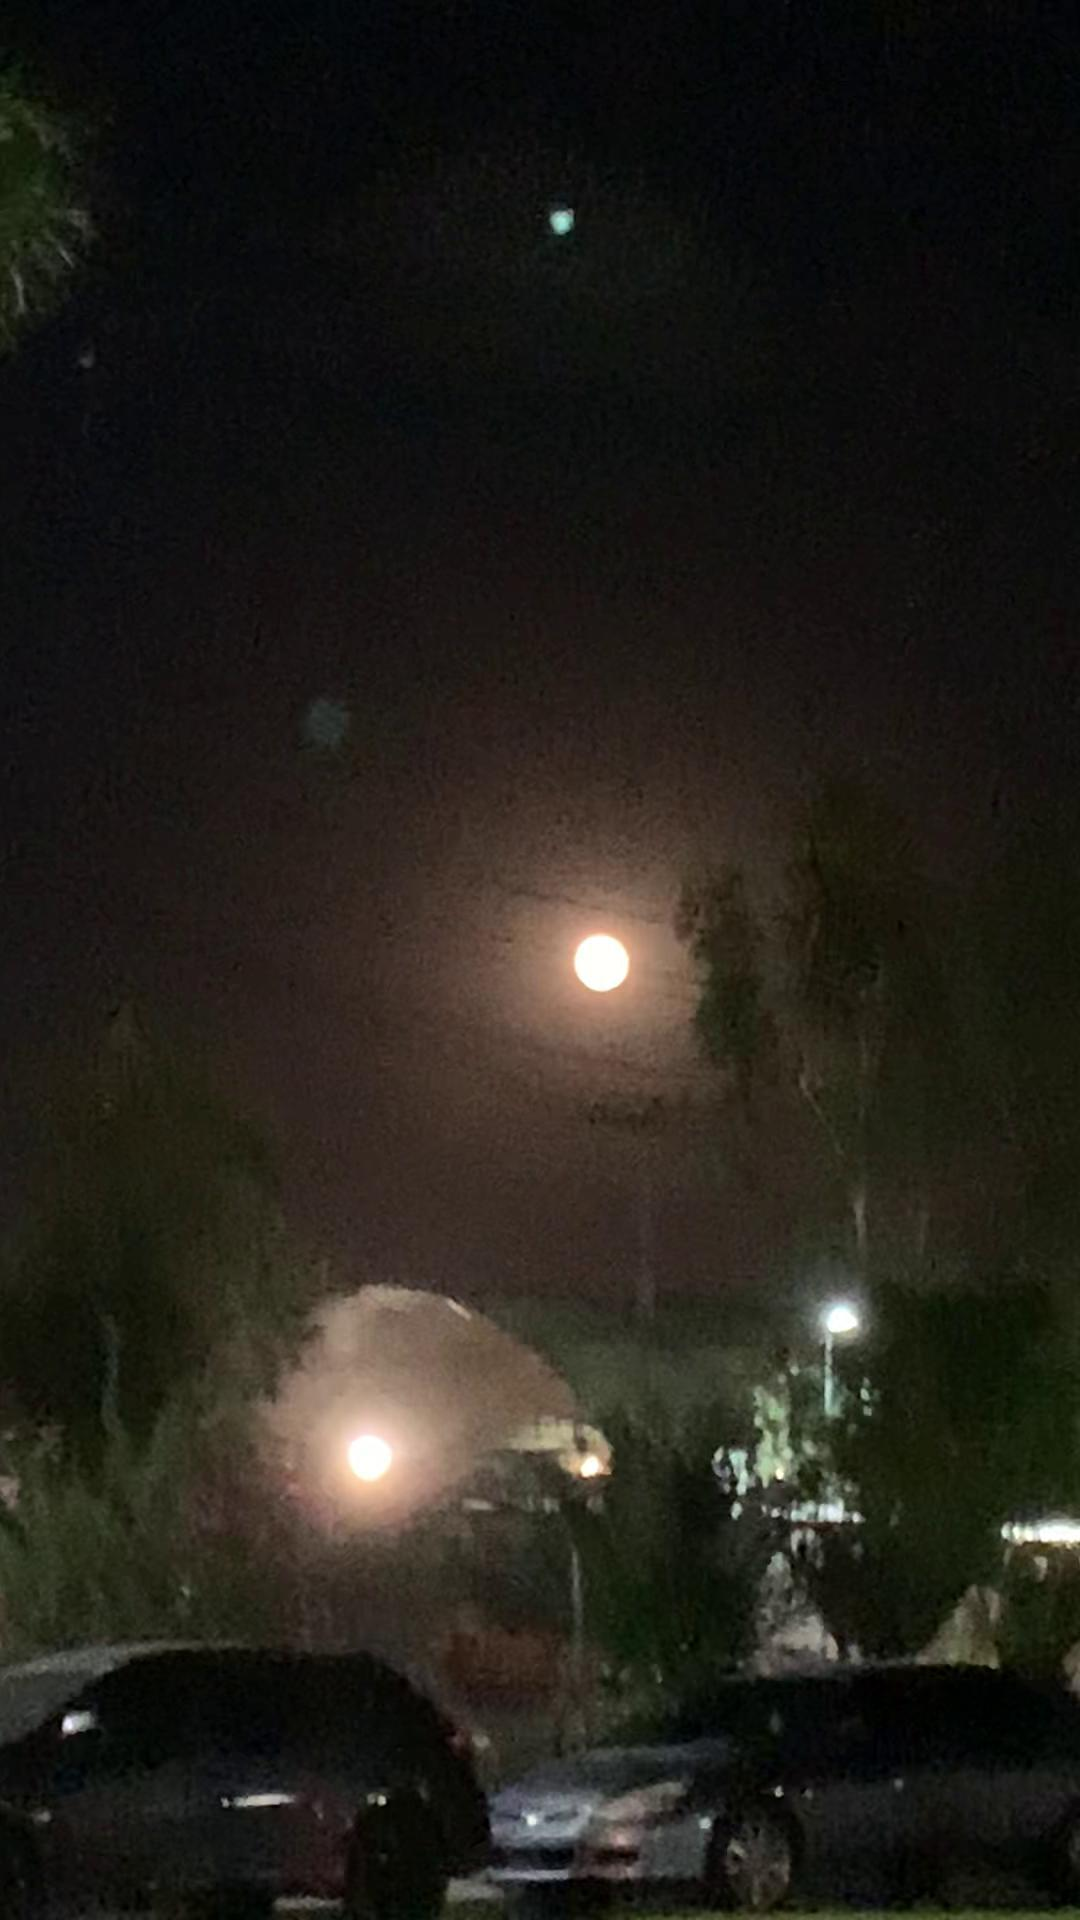moon: (574, 936, 644, 1009)
